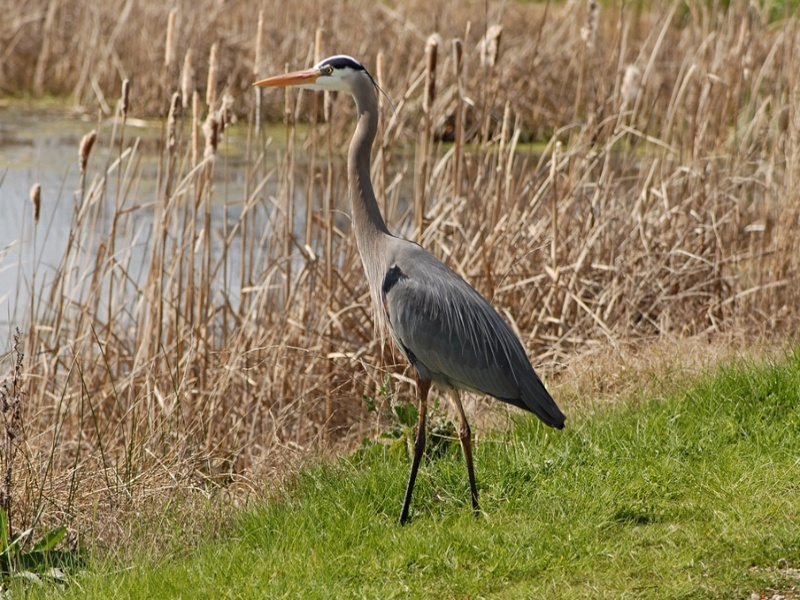heron: (246, 50, 574, 533)
